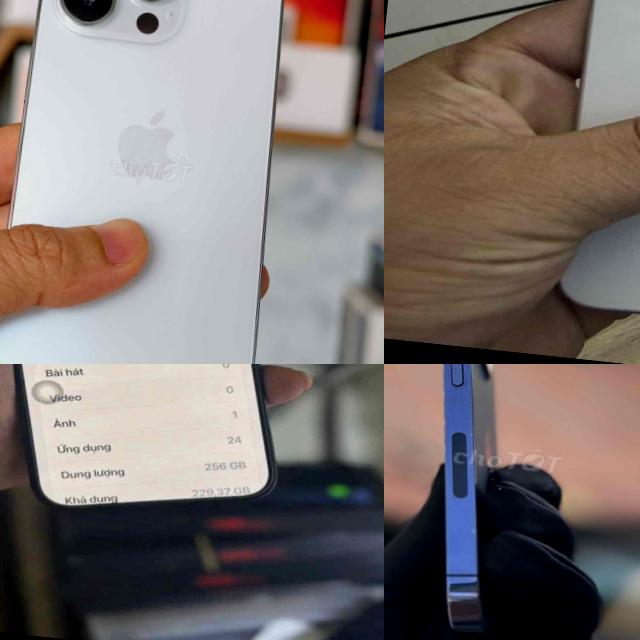gen_14: (0, 0, 309, 364), (384, 364, 551, 639)
gen_16: (14, 364, 273, 509)
gen_7_8: (548, 0, 640, 360)
